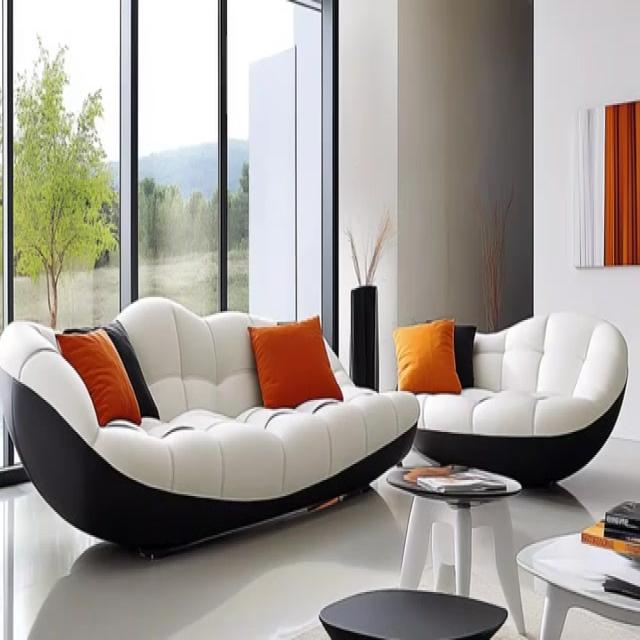obstacle: (0, 293, 420, 560), (391, 309, 628, 487), (386, 462, 526, 635)
